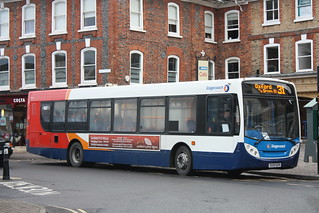bus: (26, 77, 299, 176)
